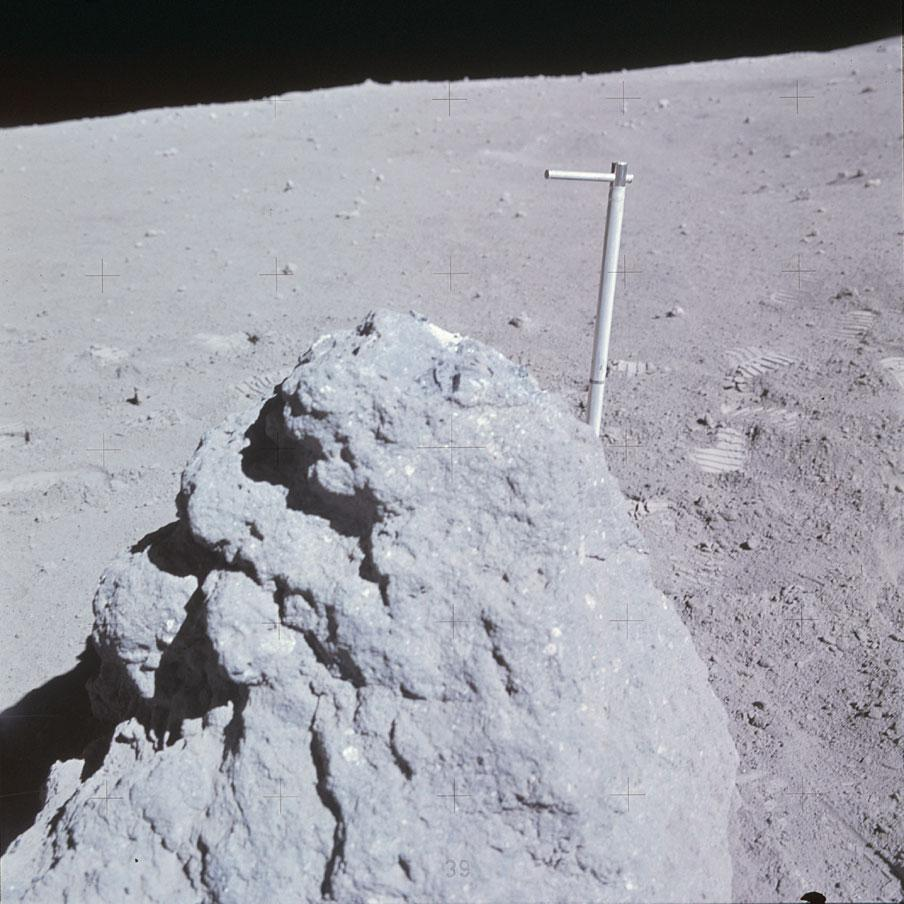rock: (4, 311, 736, 904)
